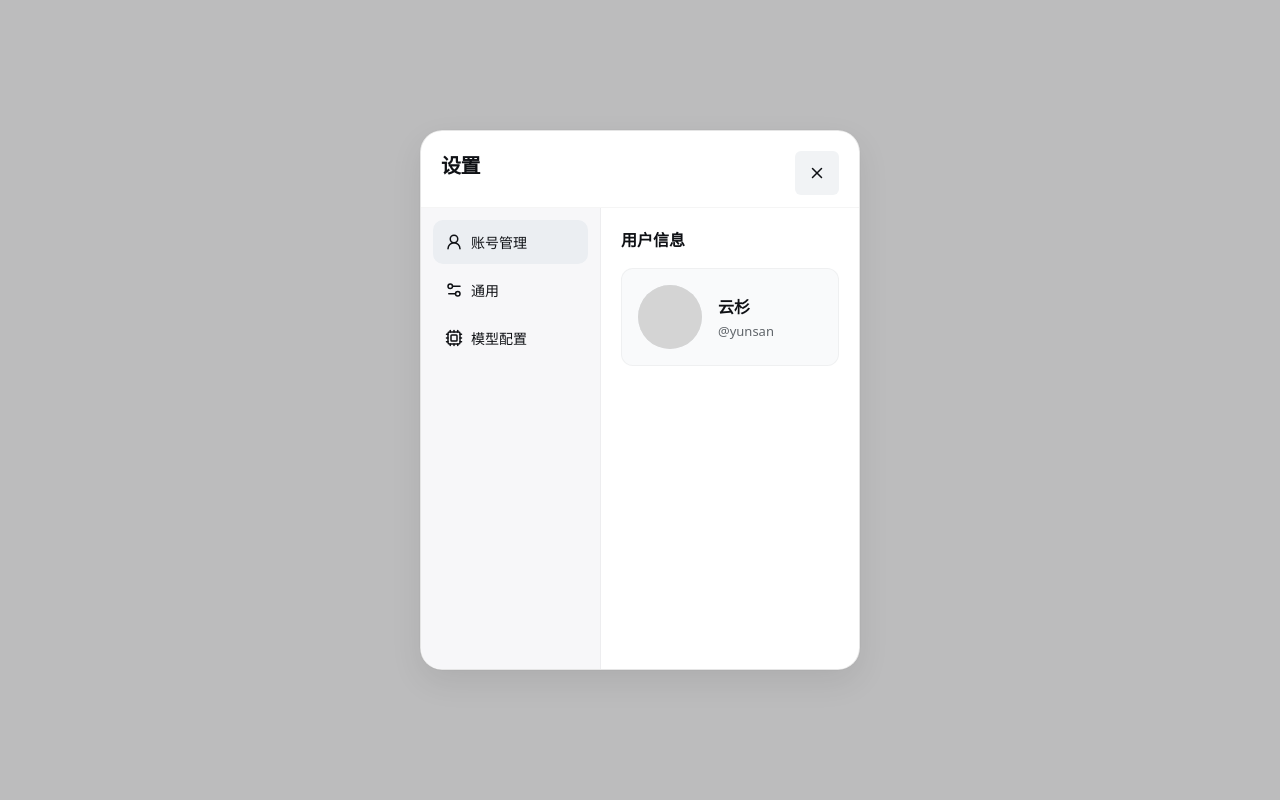
Scenario: SettingsDialog › shows the supported user fields and changes the controlled appearance preference
The width and height of the screenshot is (1280, 800).
Expected: the dialog "设置" is shown, [420,130,860,670]
Expected: the text "云杉" is shown, [718,296,750,318]
Click the button "通用": click(510, 290) [433,268,588,312]
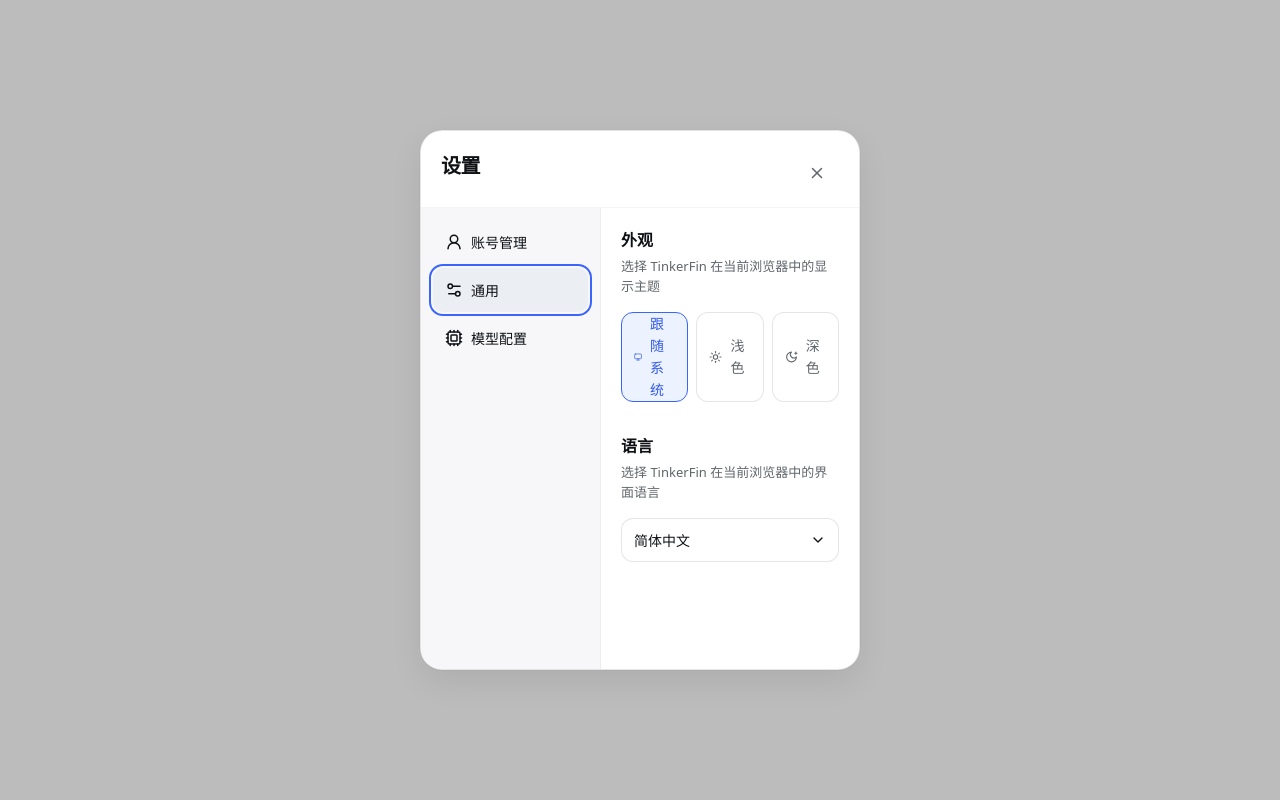
Expected: the radio button labelled "跟随系统" is checked, [621,312,688,402]
Click the radio button labelled "深色": click(805, 357) [772,312,839,402]
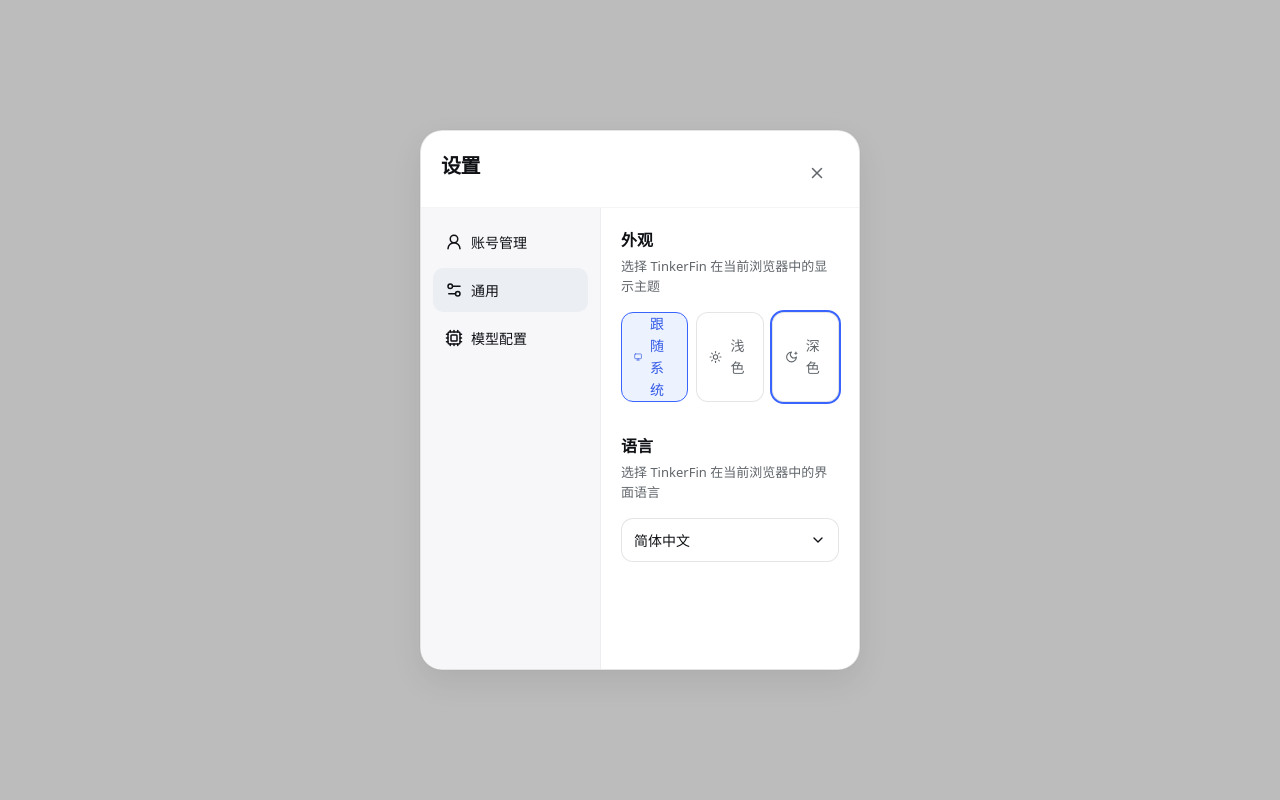
Click the button named "界面语言": click(730, 540) [621,518,839,562]
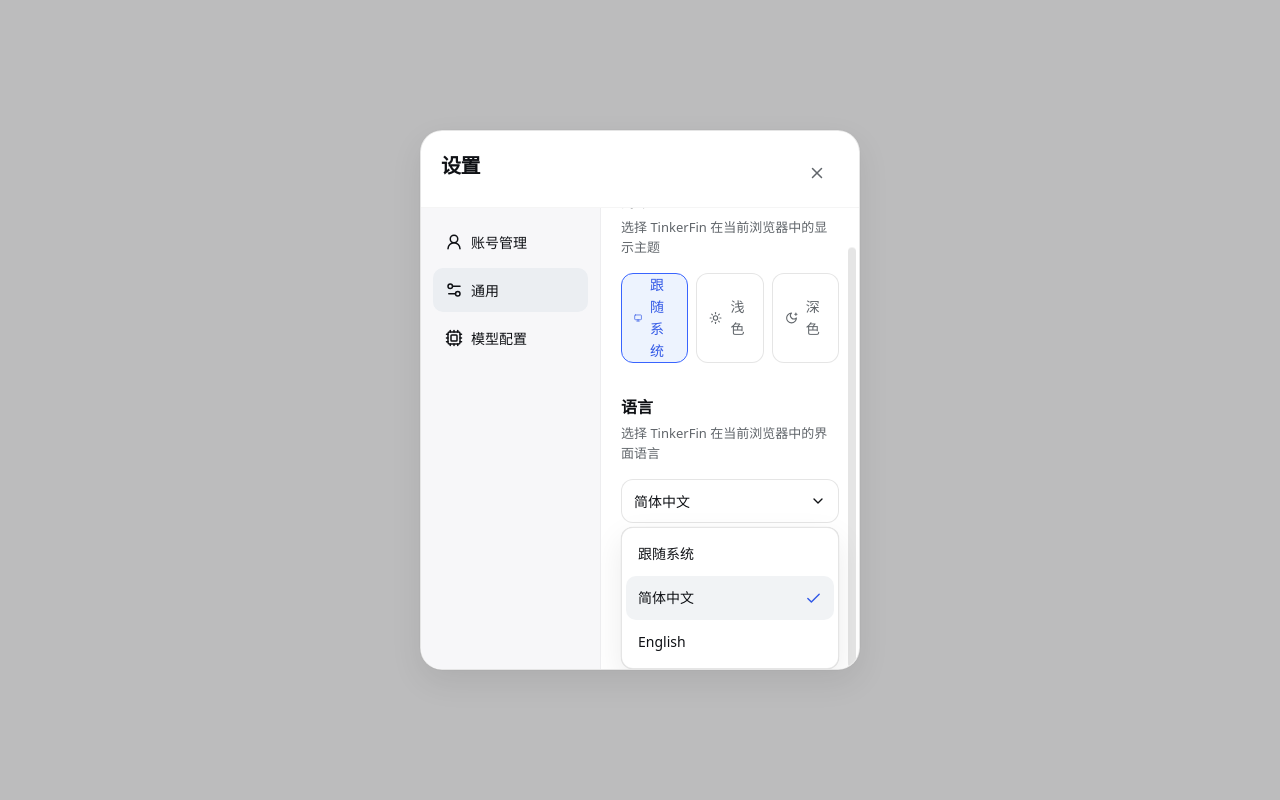
Click the option "English": click(730, 642) [626,620,834,664]
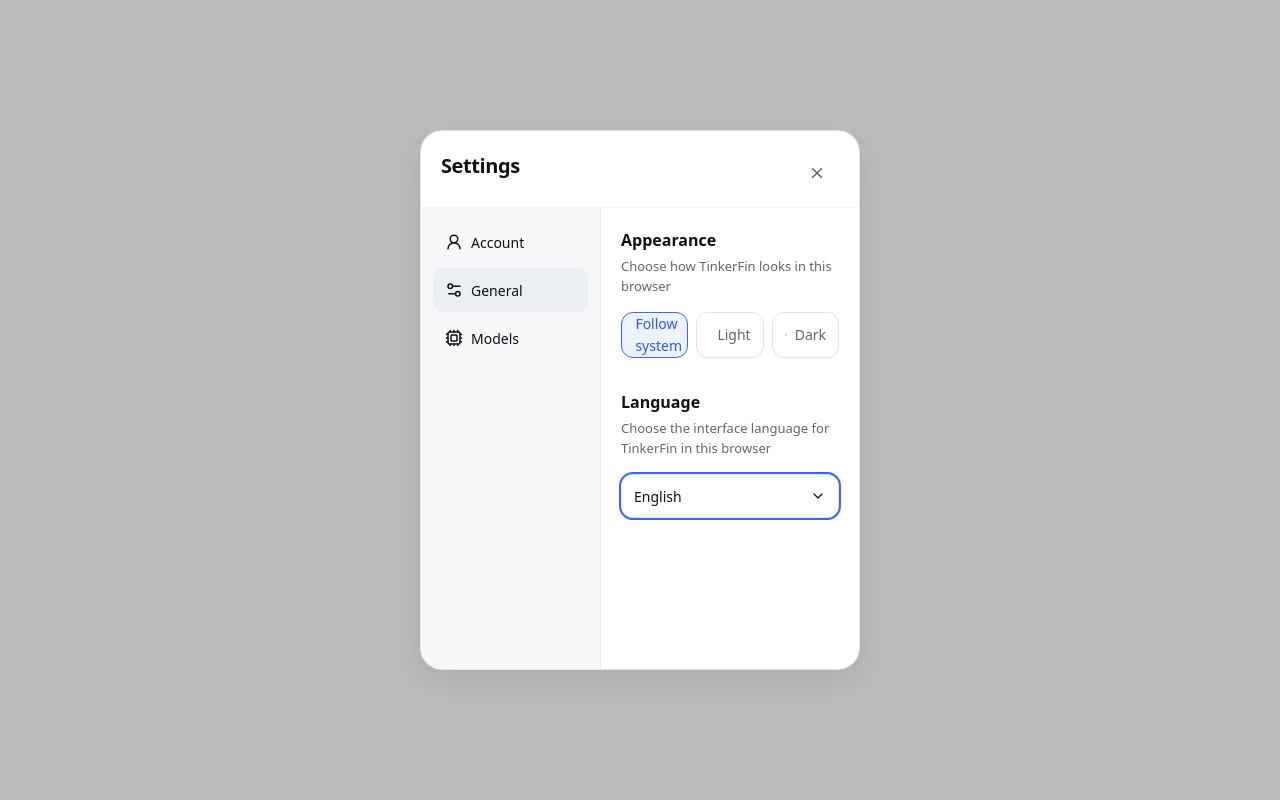
Expected: the dialog "Settings" is shown, [420,130,860,670]
Expected: the button "Account" is shown
Click the button "Account": click(510, 242) [433,220,588,264]
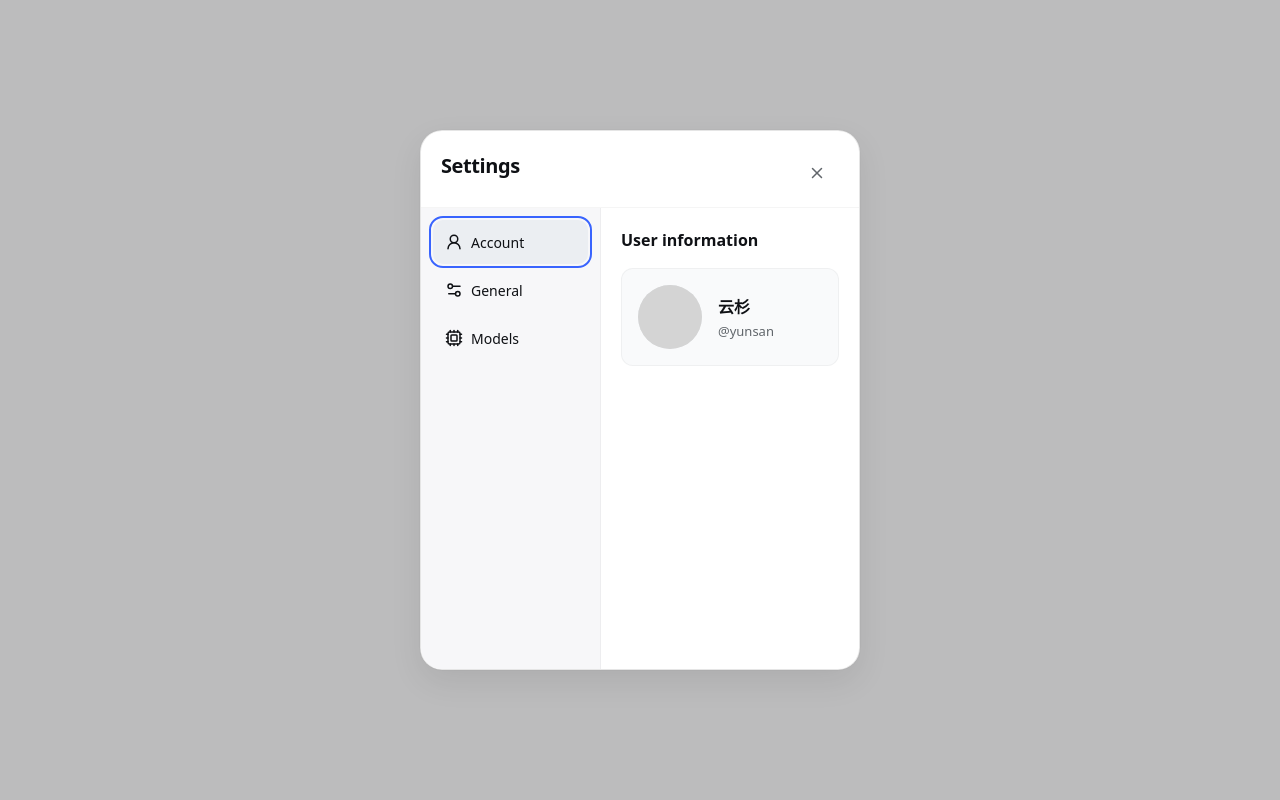
Expected: the text "云杉" is shown, [718,296,750,318]
